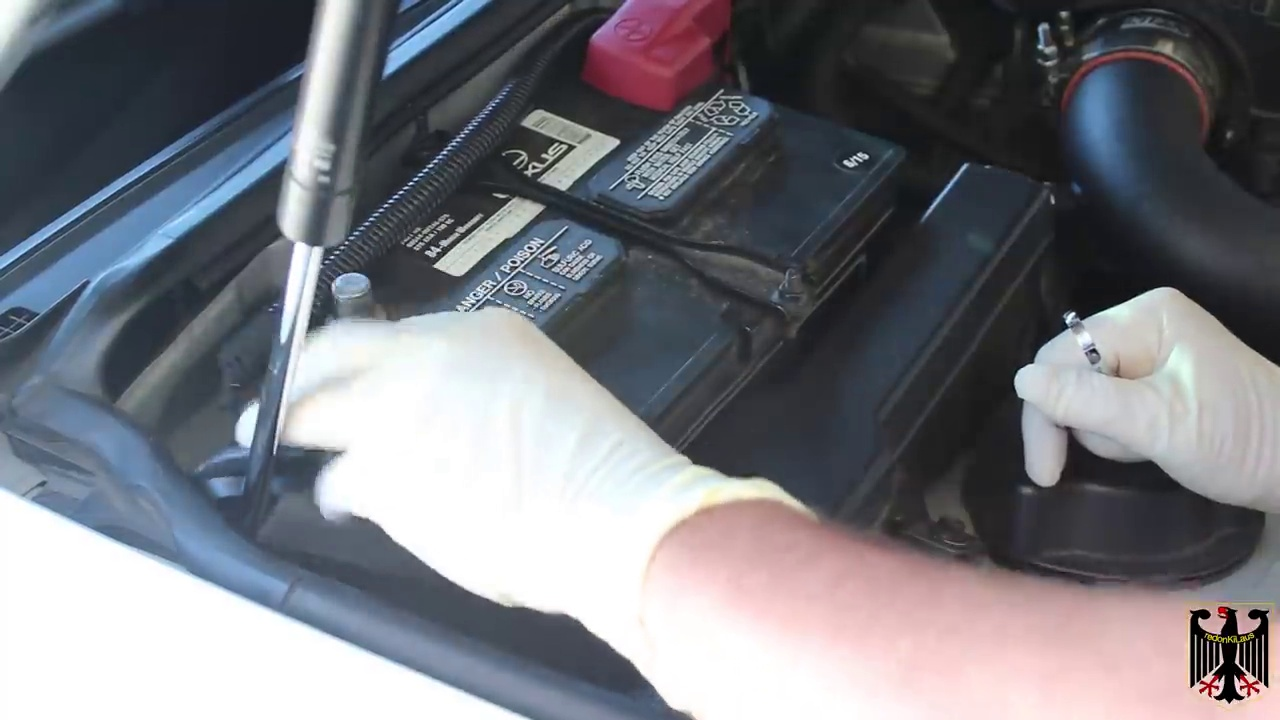battery: (300, 38, 903, 496)
neg_disconnected: (288, 262, 426, 371)
pos_connected: (555, 3, 770, 128)
